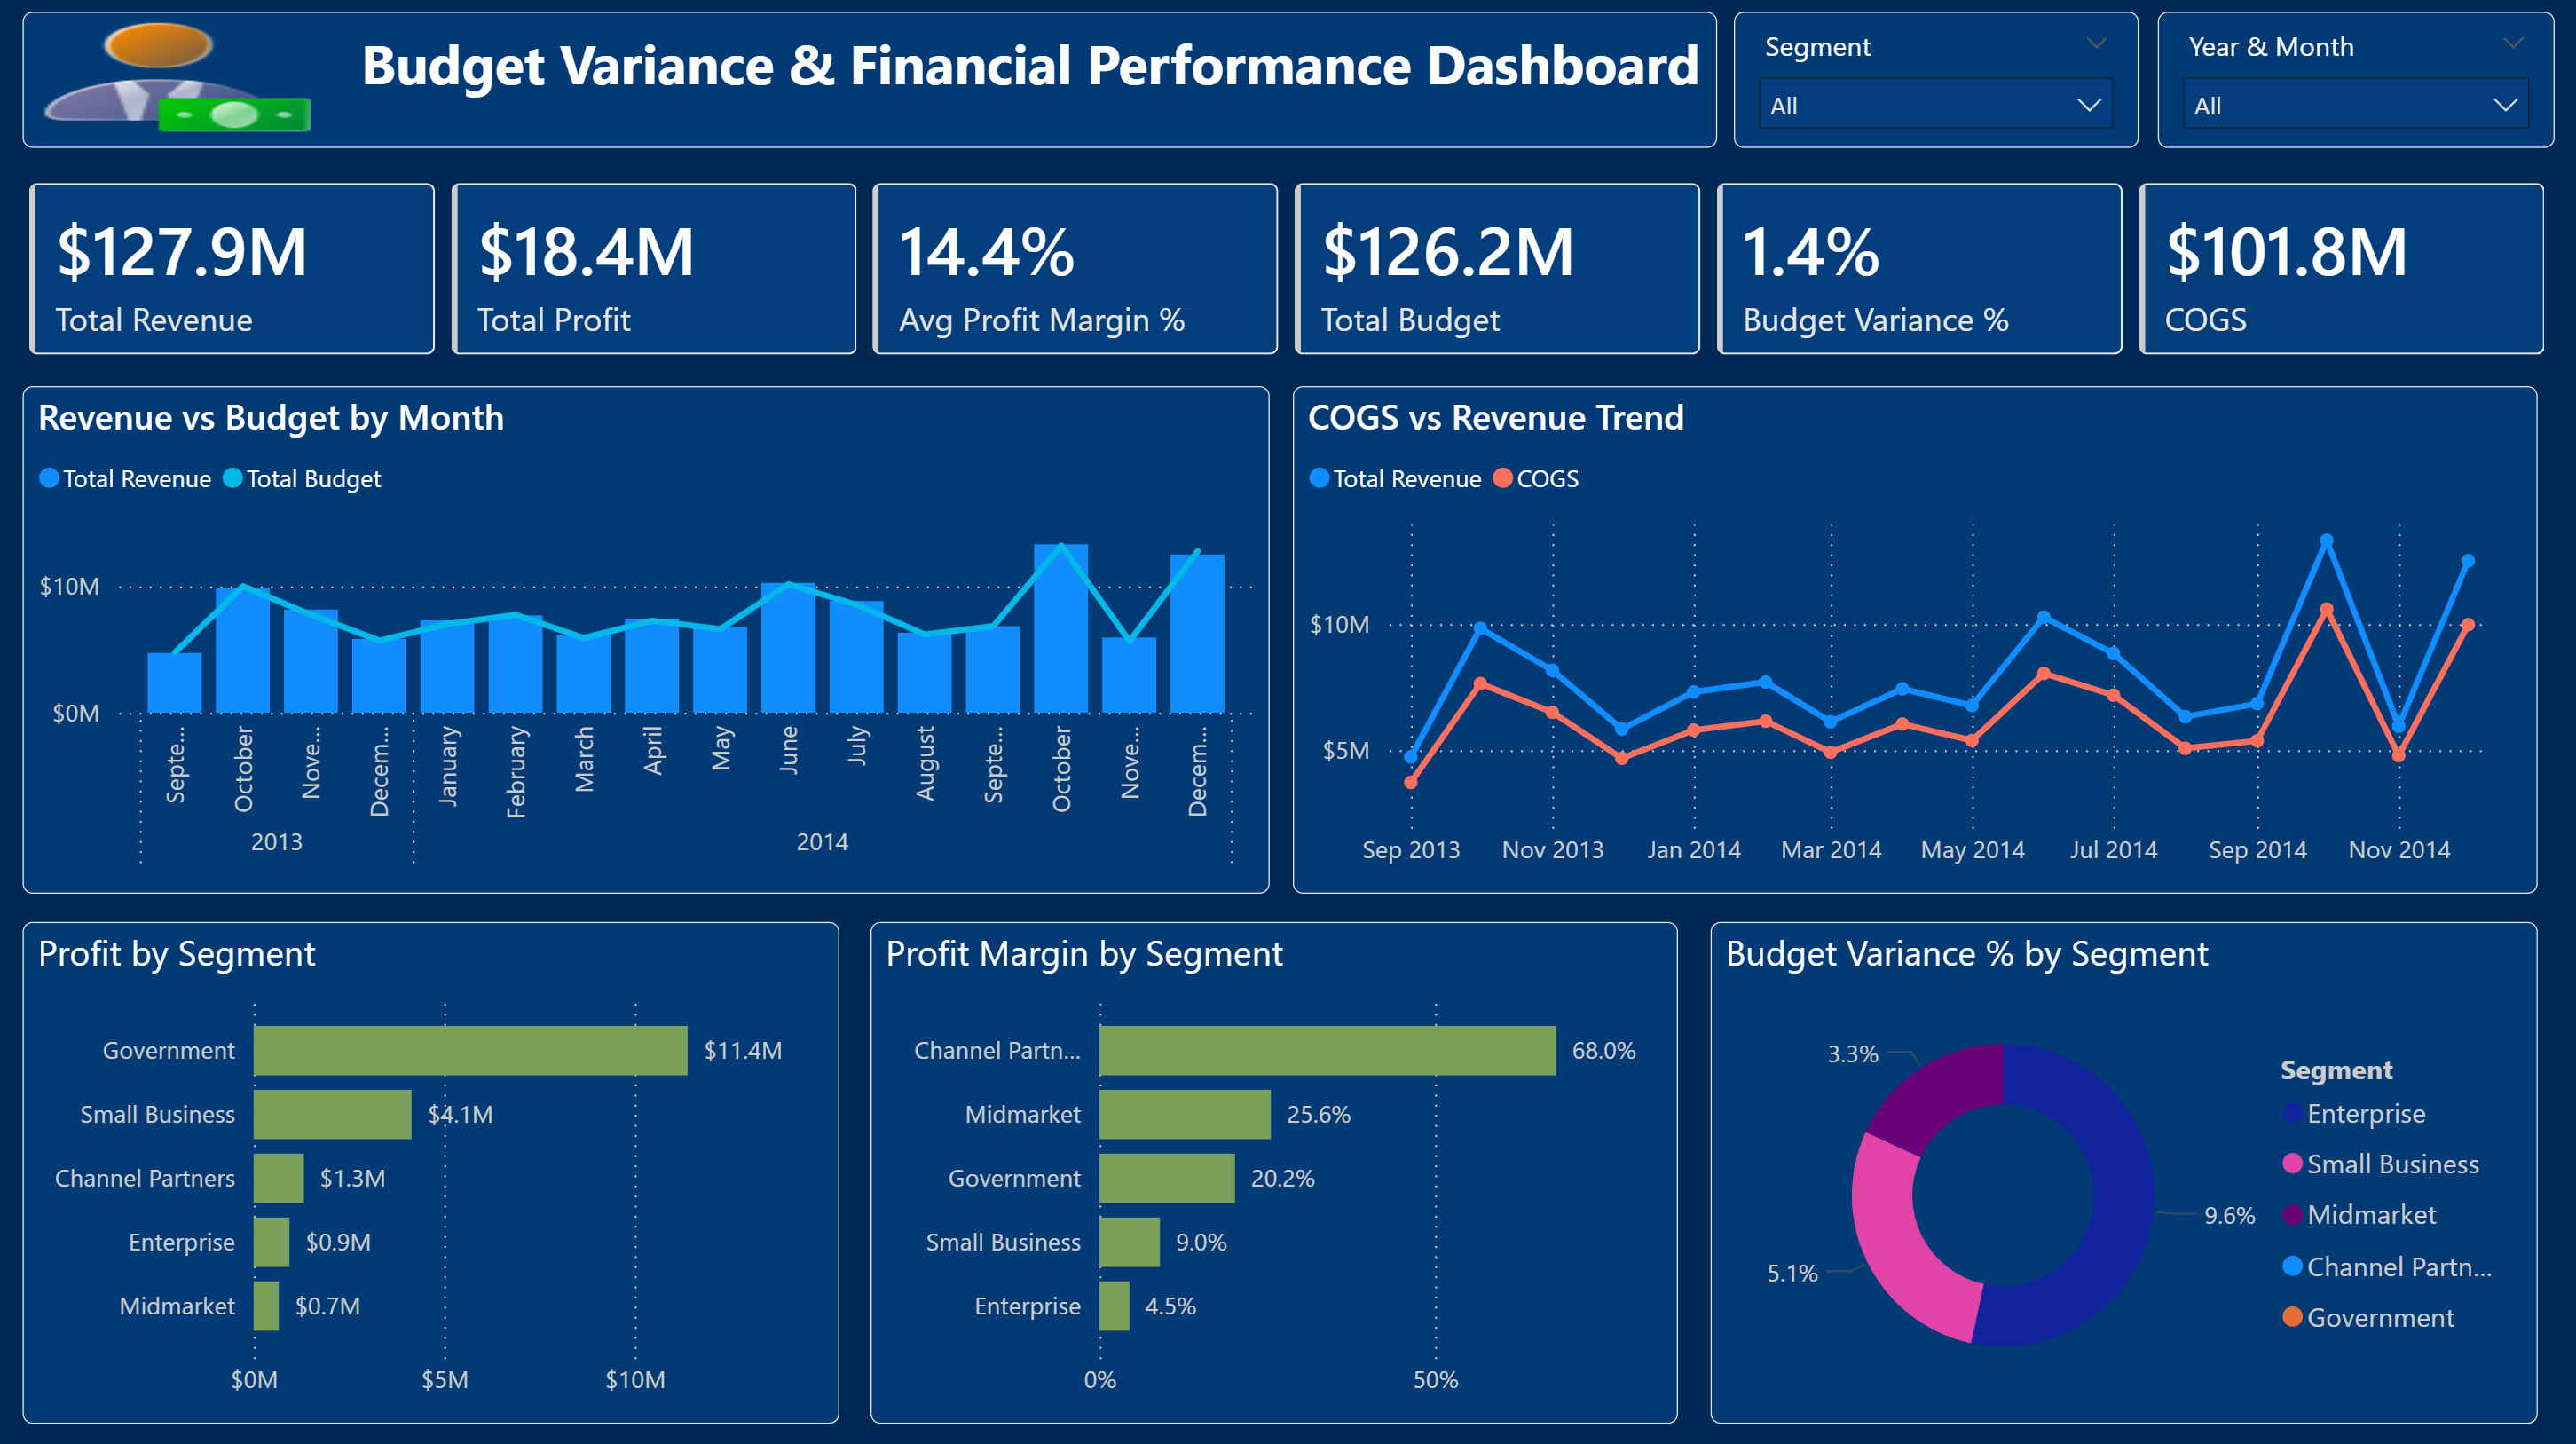

Layout of this report page (visuals, bound fields, positions):
{"tool":"powerbi","page":{"name":"Executive Summary","canvas":[1280,720],"ordinal":0},"visuals":[{"type":"clusteredBarChart","fields":{"Category":["Finance_Sample_Data.Segment"],"Y":["Measures_Table.Avg Profit Margin %"]},"box":[434,459.1,400,248.6],"z":0},{"type":"lineChart","title":"COGS vs Revenue Trend","fields":{"Category":["Finance_Sample_Data.Date.Variation.Date Hierarchy.Year","Finance_Sample_Data.Date.Variation.Date Hierarchy.Month"],"Y":["Measures_Table.Total Revenue","Measures_Table.COGS"]},"box":[642.8,193.9,616.8,251.4],"z":1000},{"type":"cardVisual","fields":{"Data":["Measures_Table.Total Revenue","Measures_Table.Total Profit","Measures_Table.Avg Profit Margin %","Measures_Table.Total Budget","Measures_Table.Budget Variance %","Measures_Table.COGS"]},"box":[0,76.1,1280,119.7],"z":2000},{"type":"textbox","box":[13.9,8.3,839.4,67.7],"z":3000},{"type":"lineClusteredColumnComboChart","title":"Revenue vs Budget by Month","fields":{"Category":["Finance_Sample_Data.Date.Variation.Date Hierarchy.Year","Finance_Sample_Data.Date.Variation.Date Hierarchy.Month"],"Y":["Measures_Table.Total Revenue"],"Y2":["Measures_Table.Total Budget"]},"box":[13.9,193.9,617.7,251.4],"z":4000},{"type":"clusteredBarChart","title":"Profit by Segment","fields":{"Category":["Finance_Sample_Data.Segment"],"Y":["Measures_Table.Total Profit"]},"box":[13.9,459.1,404.4,248.6],"z":5000},{"type":"slicer","fields":{"Values":["Finance_Sample_Data.Date.Variation.Date Hierarchy.Year","Finance_Sample_Data.Date.Variation.Date Hierarchy.Month"]},"box":[1071.3,8.3,196.6,67.7],"z":6000},{"type":"slicer","fields":{"Values":["Finance_Sample_Data.Segment"]},"box":[861.7,8.3,200.3,67.7],"z":7000},{"type":"donutChart","fields":{"Category":["Finance_Sample_Data.Segment"],"Y":["Measures_Table.Budget Variance %"]},"box":[849.6,459.1,410,248.6],"z":8000},{"type":"image","box":[6.5,8.3,150.3,59.4],"z":9000}]}

Visuals, with their boxes in screenshot pixels (x1, y1, x2, y2), scaled from the page's 1280x720 canvas onto the 2576x1444 screenshot:
clusteredBarChart - Finance_Sample_Data.Segment x Measures_Table.Avg Profit Margin %: 873 920 1678 1419
"COGS vs Revenue Trend" lineChart: 1294 389 2535 893
cardVisual - Measures_Table.Total Revenue x Measures_Table.Total Profit: 0 153 2575 392
textbox: 28 17 1717 153
"Revenue vs Budget by Month" lineClusteredColumnComboChart: 28 389 1271 893
"Profit by Segment" clusteredBarChart: 28 920 842 1419
slicer - Finance_Sample_Data.Date.Variation.Date Hierarchy.Year x Finance_Sample_Data.Date.Variation.Date Hierarchy.Month: 2156 17 2552 153
slicer - Finance_Sample_Data.Segment: 1734 17 2138 153
donutChart - Finance_Sample_Data.Segment x Measures_Table.Budget Variance %: 1710 920 2535 1419
image: 13 17 316 136
